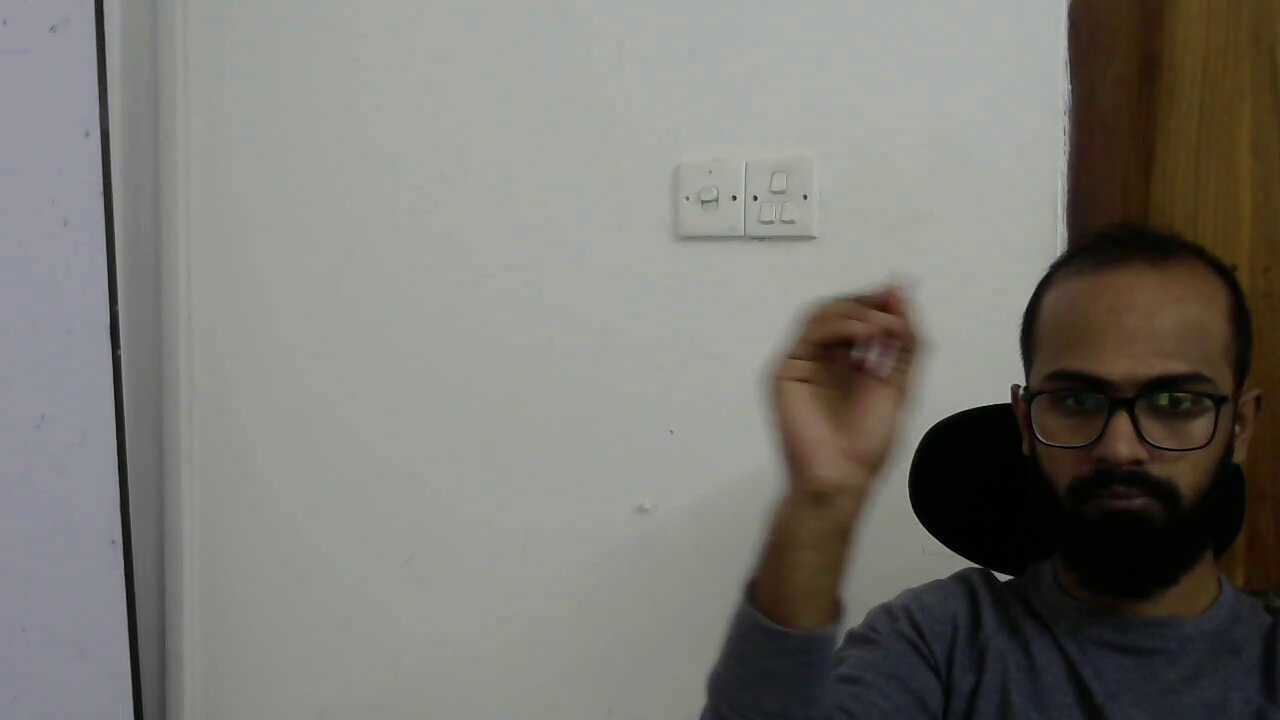pointer: (804, 289, 921, 410)
